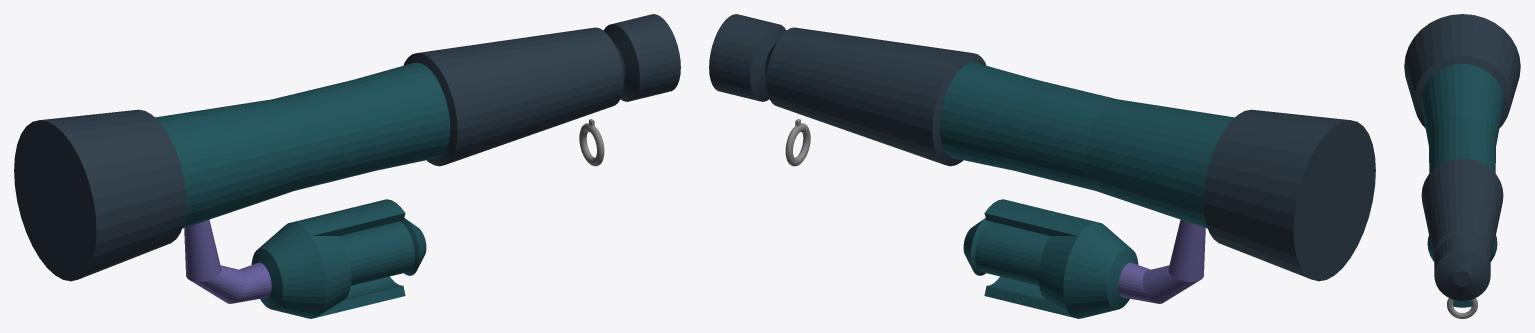
File: FishUpper.fbx
3 views of the same model, side by side, from view 1: azimuth 30°, elevation 25°; view 2: azimuth 150°, elevation 25°; view 3: azimuth 270°, elevation 25° (orthographic). The views are drawn at different scales.
Parts seen in each view (by area): view 1: Cylinder.005; view 2: Cylinder.005; view 3: Cylinder.005.
Part boxes in pixels (x1,y1,x2,y2): Cylinder.005: (14,14,680,318); Cylinder.005: (709,14,1375,318); Cylinder.005: (1404,14,1520,318).
Bounding box in the file's own units: 128 × 49.56 × 29.68.
